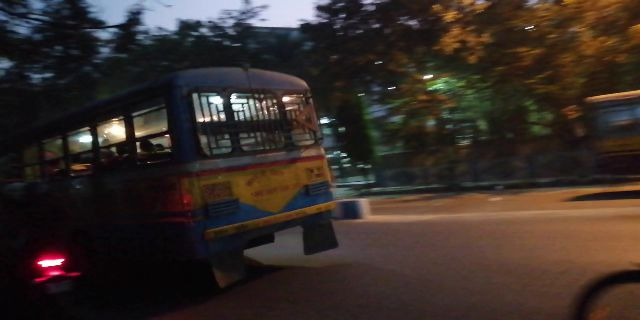Bus: (30, 62, 339, 253)
